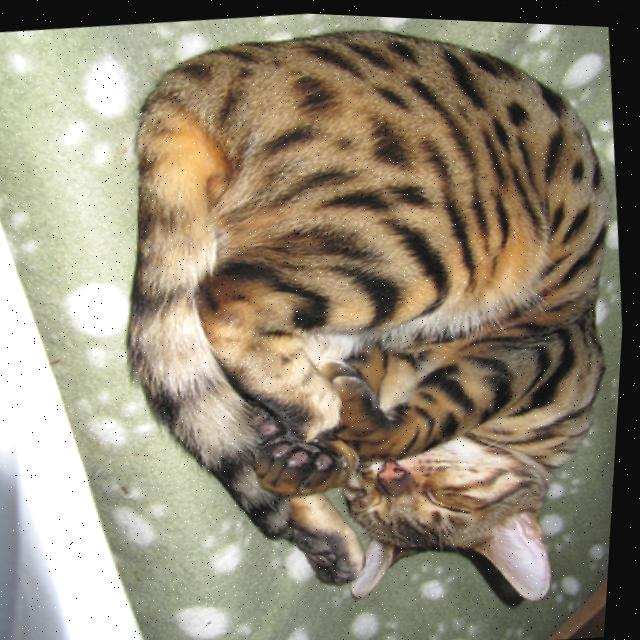Bengal: (65, 3, 640, 640)
